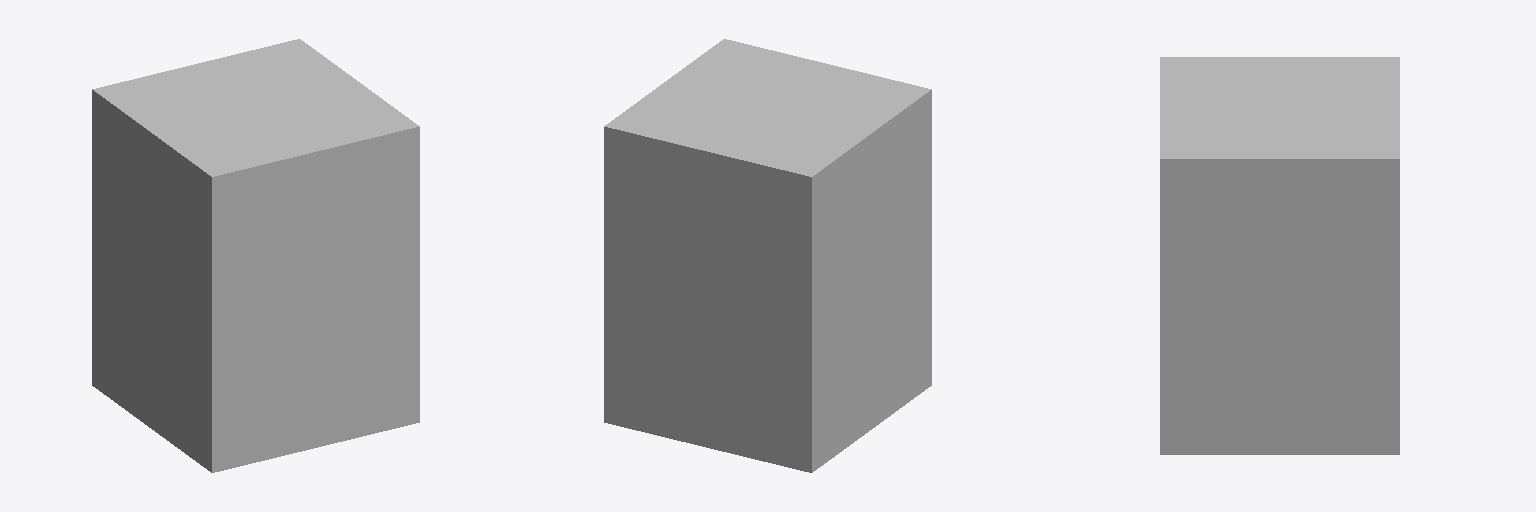
Rendered from ActorUpperLeftArm.obj.
3 renders of one model, left to right at view 1: azimuth 30°, elevation 25°; view 2: azimuth 150°, elevation 25°; view 3: azimuth 270°, elevation 25°, orthographic.
Visible parts, largest first — view 1: ActorUpperLeftArm_Cube.004; view 2: ActorUpperLeftArm_Cube.004; view 3: ActorUpperLeftArm_Cube.004.
Boxes of the visible parts, box(x1,y1,x2,y2) form: ActorUpperLeftArm_Cube.004: box(92, 39, 419, 472); ActorUpperLeftArm_Cube.004: box(604, 39, 931, 472); ActorUpperLeftArm_Cube.004: box(1160, 57, 1399, 454).
Size of the model in its own units: 0.29 by 0.395 by 0.29.